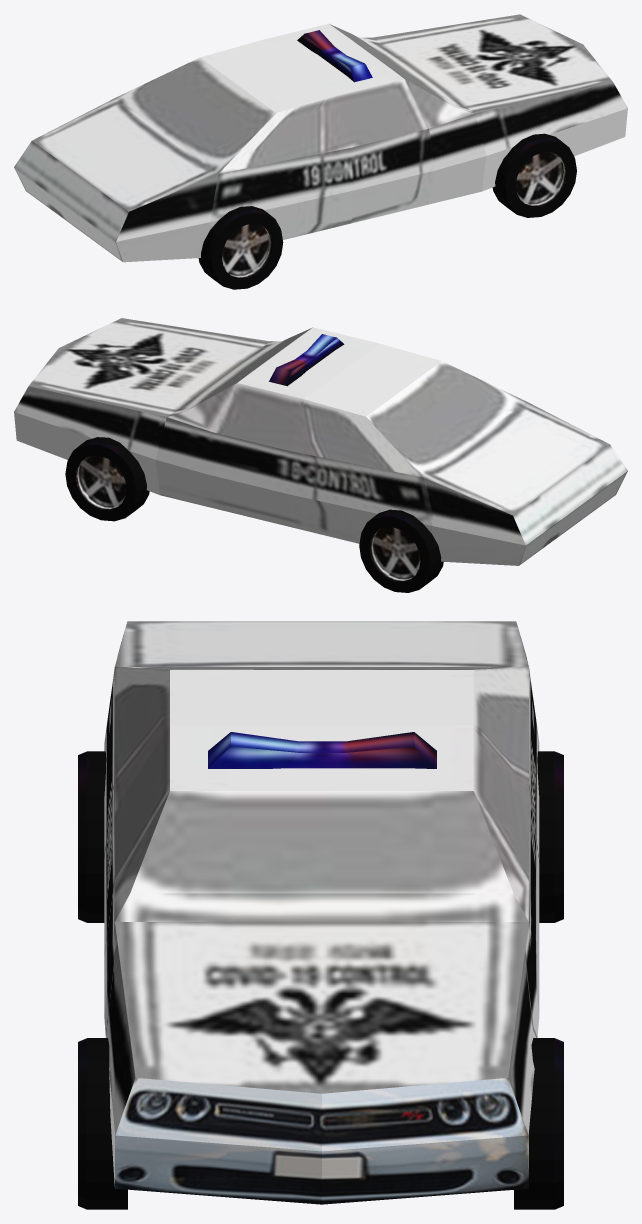
The model's file is PoliceСar.fbx.
3 views of the same model, one above another, from view 1: azimuth 30°, elevation 25°; view 2: azimuth 150°, elevation 25°; view 3: azimuth 270°, elevation 25° (orthographic). The views are drawn at different scales.
Visible parts, largest first — view 1: Cube.002, Cylinder.001, Cube.003; view 2: Cube.002, Cylinder.001, Cube.003; view 3: Cube.002, Cylinder.001, Cube.003.
Part boxes in pixels (<box>): Cube.002: <box>14,14,627,262</box>; Cylinder.001: <box>198,133,576,289</box>; Cube.003: <box>297,30,372,82</box>; Cube.002: <box>14,318,627,565</box>; Cylinder.001: <box>65,437,443,592</box>; Cube.003: <box>269,334,344,386</box>; Cube.002: <box>104,621,539,1204</box>; Cylinder.001: <box>78,751,563,1209</box>; Cube.003: <box>208,732,436,768</box>.
Size of the model in its own units: 400 by 116 by 160.
Materials: 1 (1 with a texture image).
